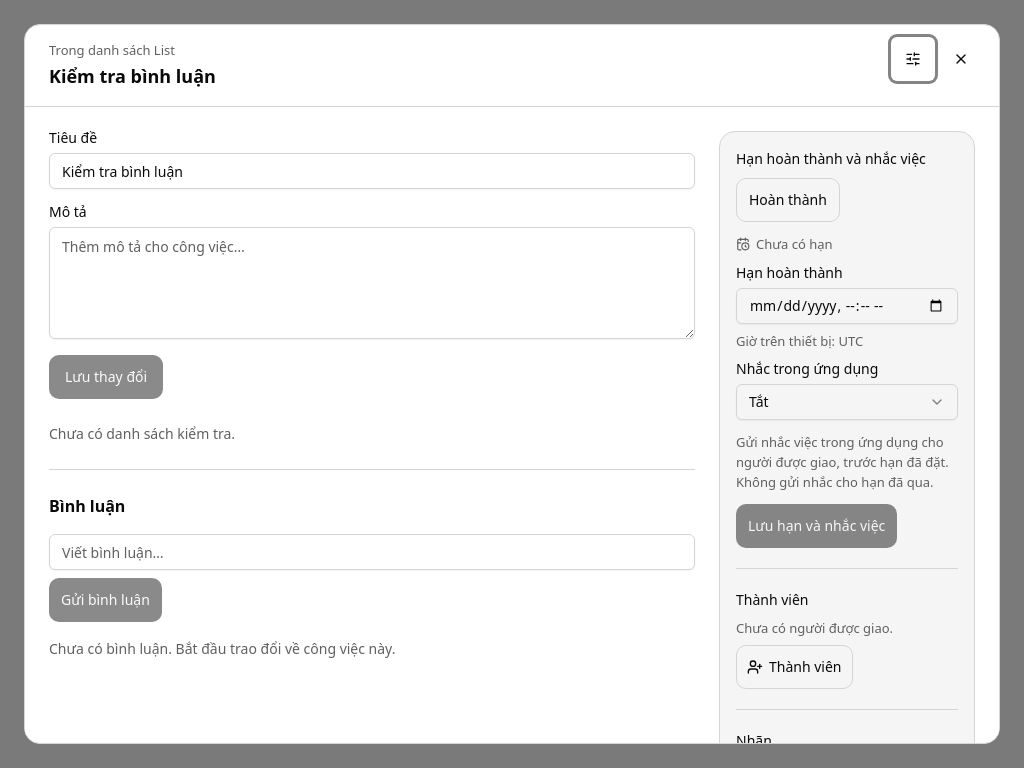
Test: keeps comment drafts and does not duplicate a pending submit
Expected: the heading "Kiểm tra bình luận" is shown, [49, 63, 216, 90]
Expected: the field labelled "Tiêu đề" is shown, [49, 153, 695, 189]
Type "Giữ lại bản nháp" into the field with placeholder "Viết bình luận…" at (372, 552), box [49, 534, 695, 570]
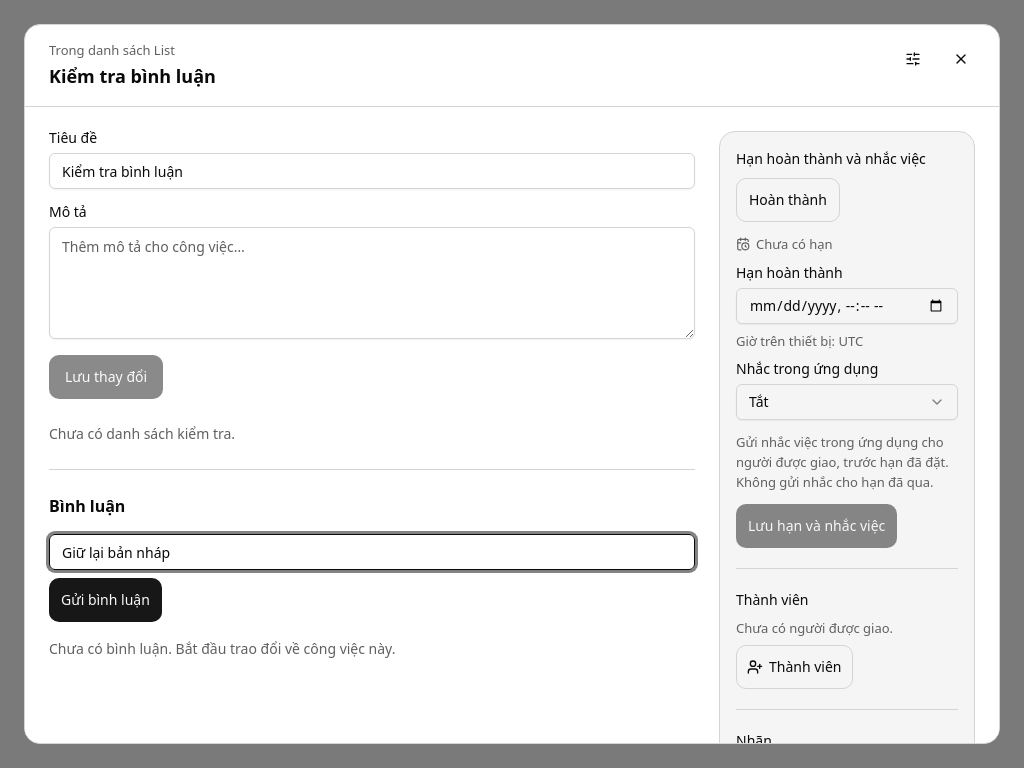
Click the button "Gửi bình luận" at (105, 600), box [49, 578, 162, 622]
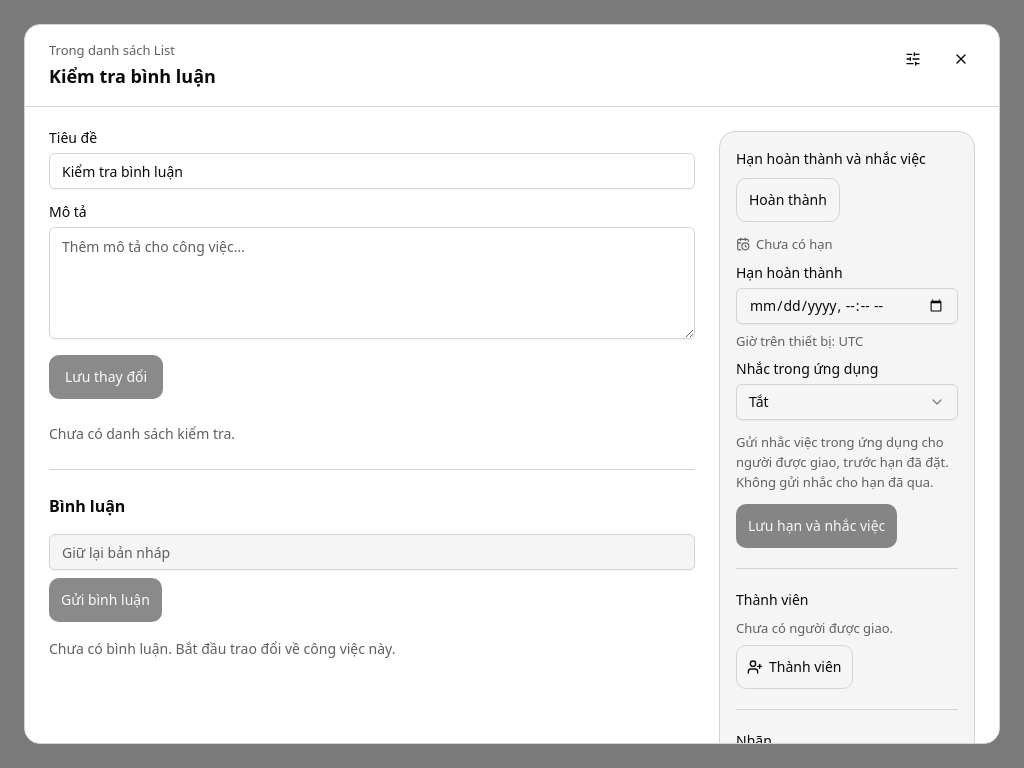
Click the button "Gửi bình luận" at (105, 600), box [49, 578, 162, 622]
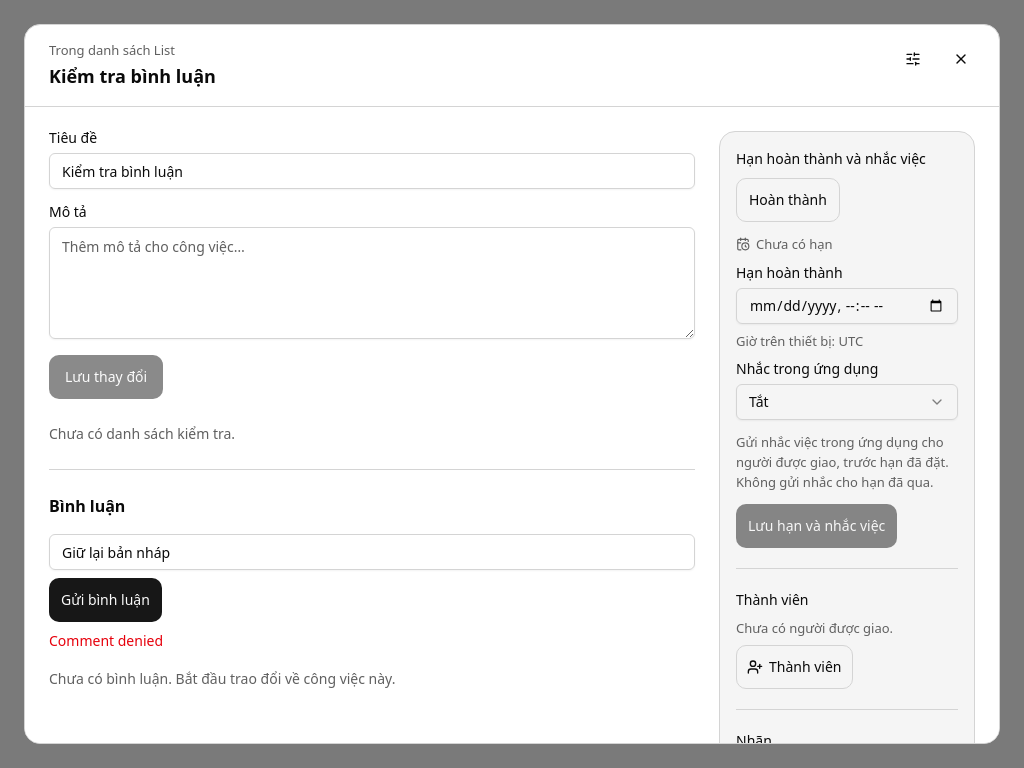
Now the message reads "Comment denied", box [49, 631, 163, 650]
